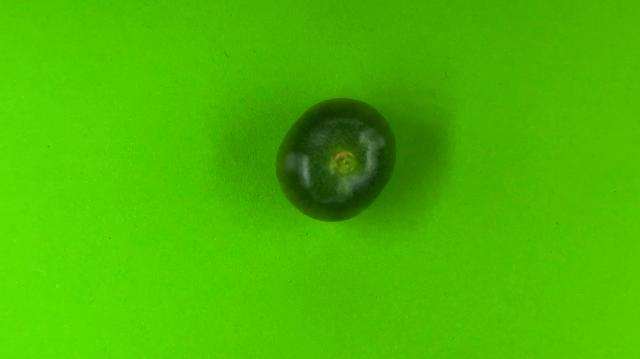Fruit Maturation: (275, 97, 397, 223)
